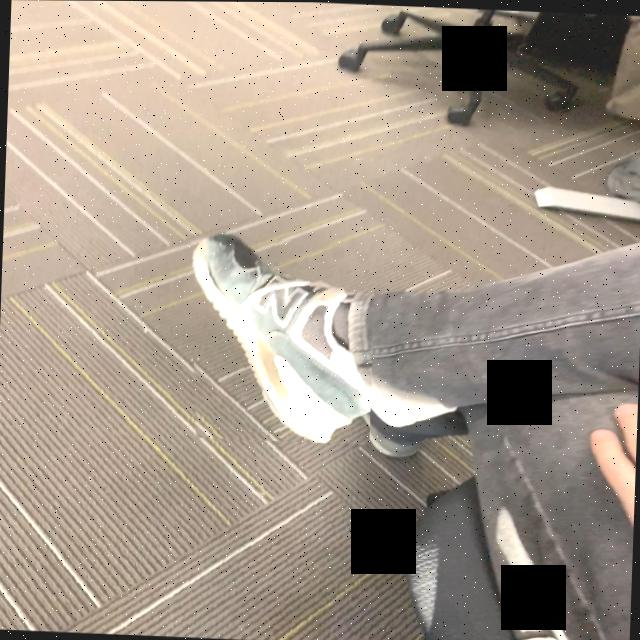shoe: (191, 235, 371, 442)
